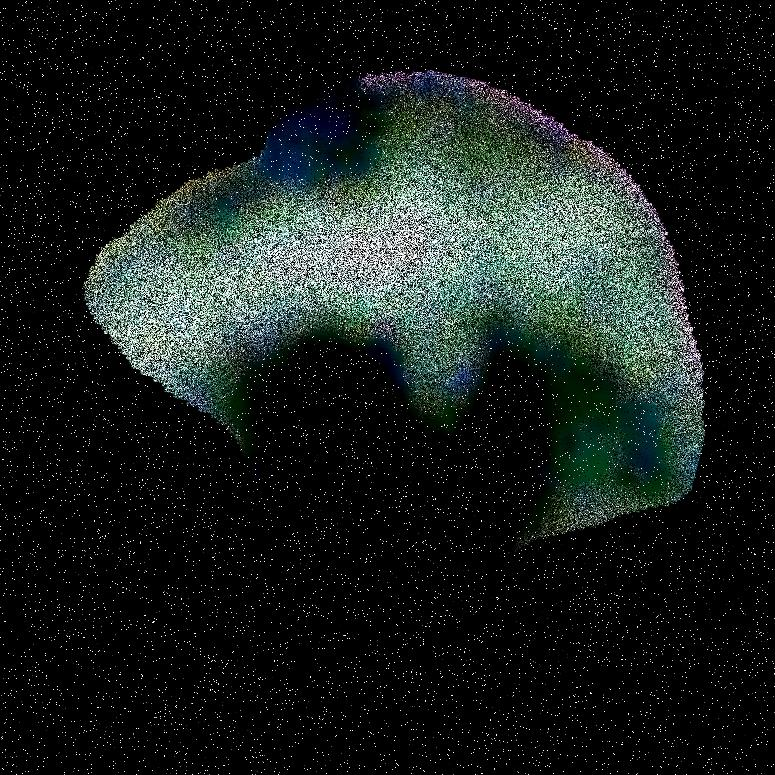Pessoa: (304, 0, 611, 774)
